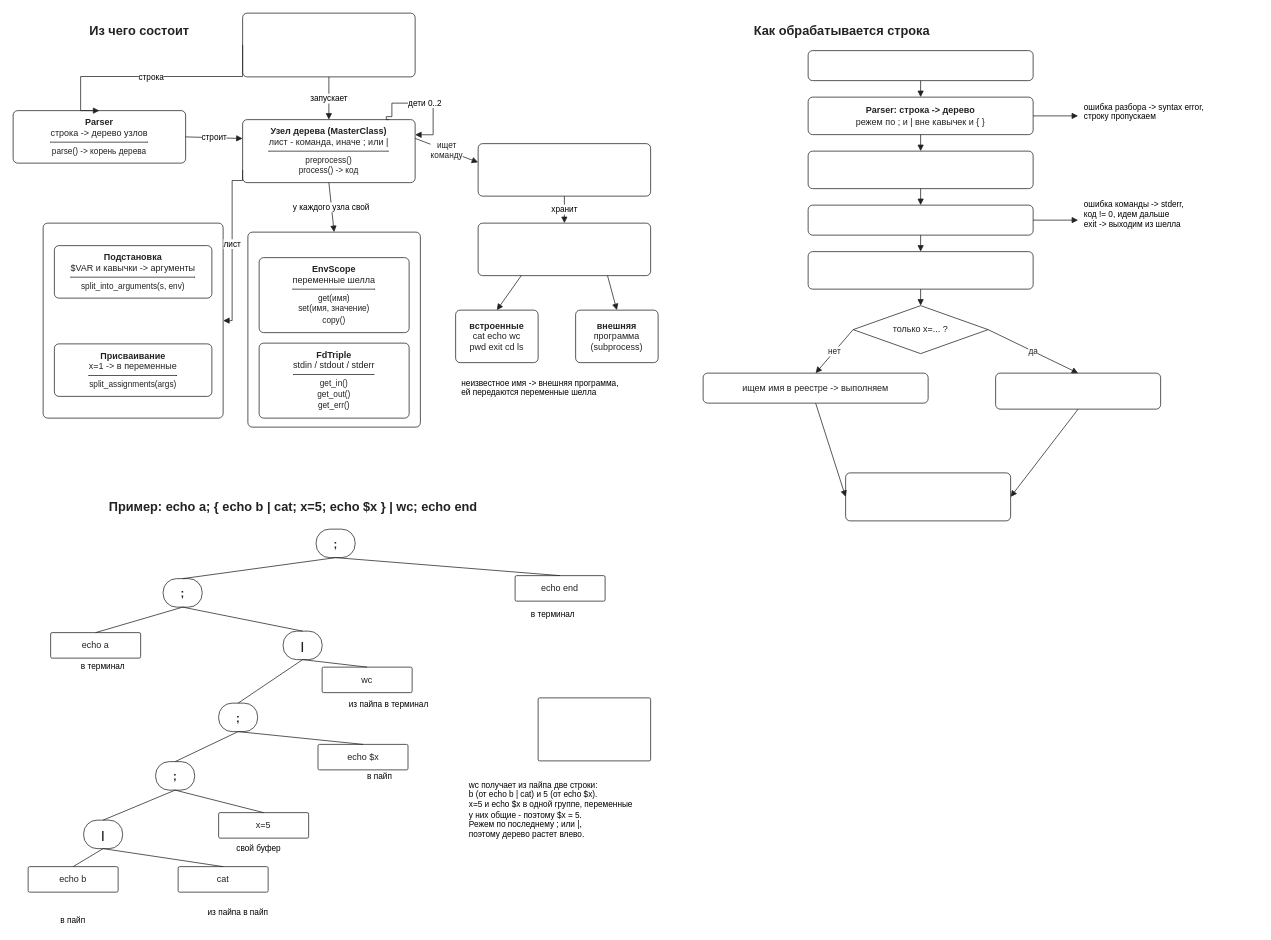
Some shapes in this 1271 by 940 pixel diagram are drawn without their labels. The shapes that lost their labels are listed below. From the top down, each one's box as (x1, y1, x2, y2) in pixels, then its label:
(242, 12, 415, 77): REPL (main) читает строки, ловит ошибки repl() run(строка) -> код
(807, 50, 1033, 81): ввод строки >> ...
(477, 143, 651, 196): Реестр команд имя -> Command lookup(имя) -> Command
(807, 150, 1033, 189): preprocess: сверху вниз раздаем узлам потоки и переменные
(807, 204, 1033, 235): process: обходим дерево слева направо
(477, 222, 651, 276): Command функция (потоки, переменные, args) cmd(fds, env, args) -> код
(807, 251, 1033, 289): лист: подставляем $VAR, бьем на аргументы
(42, 222, 223, 418): разбор листа
(247, 231, 420, 427): контекст узла
(995, 372, 1161, 409): записать в переменные код 0
(845, 472, 1011, 521): код возврата
(537, 697, 651, 761): вывод: a 2 2 4 end
